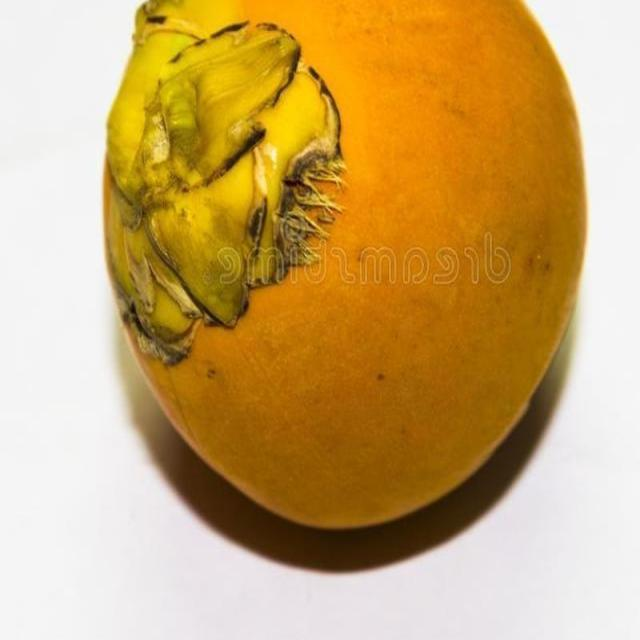good: (102, 0, 590, 532)
